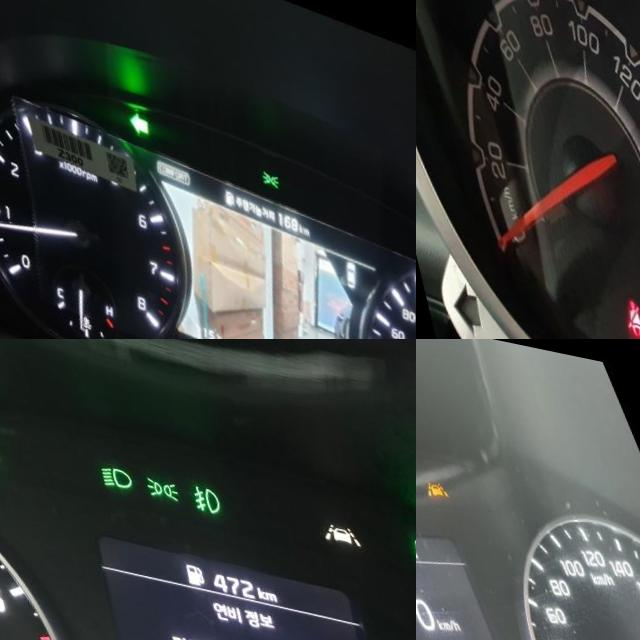FrontFogLight: (180, 468, 212, 501)
LaneCenteringOff: (307, 500, 351, 527), (416, 460, 440, 484)
Low beam: (88, 454, 123, 480)
SideLamp: (134, 463, 169, 490), (248, 151, 272, 174)
